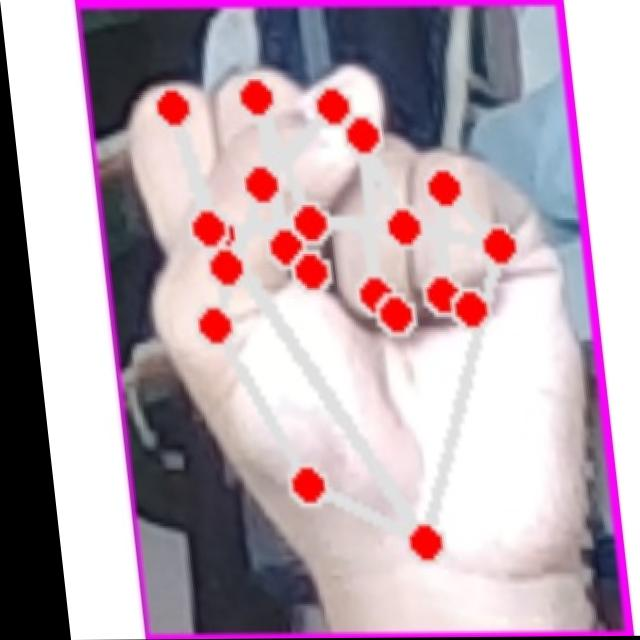S: (90, 51, 591, 594)
